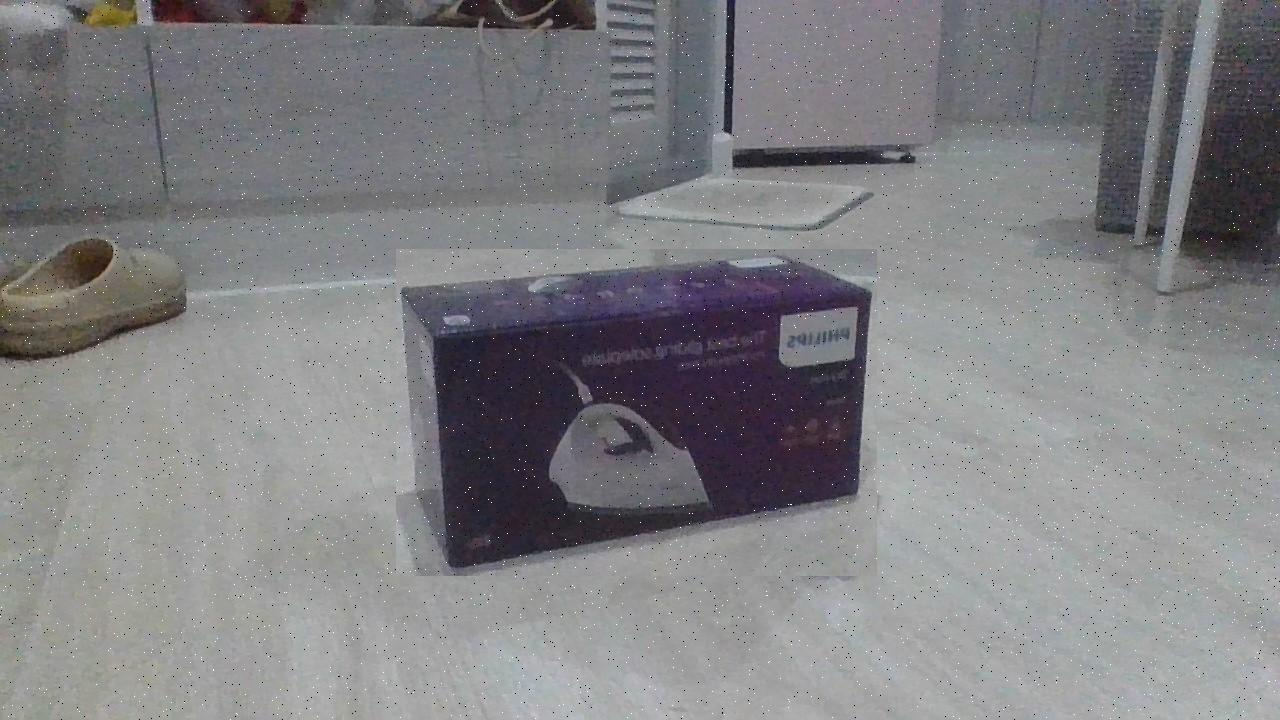IRON: (396, 249, 877, 576)
